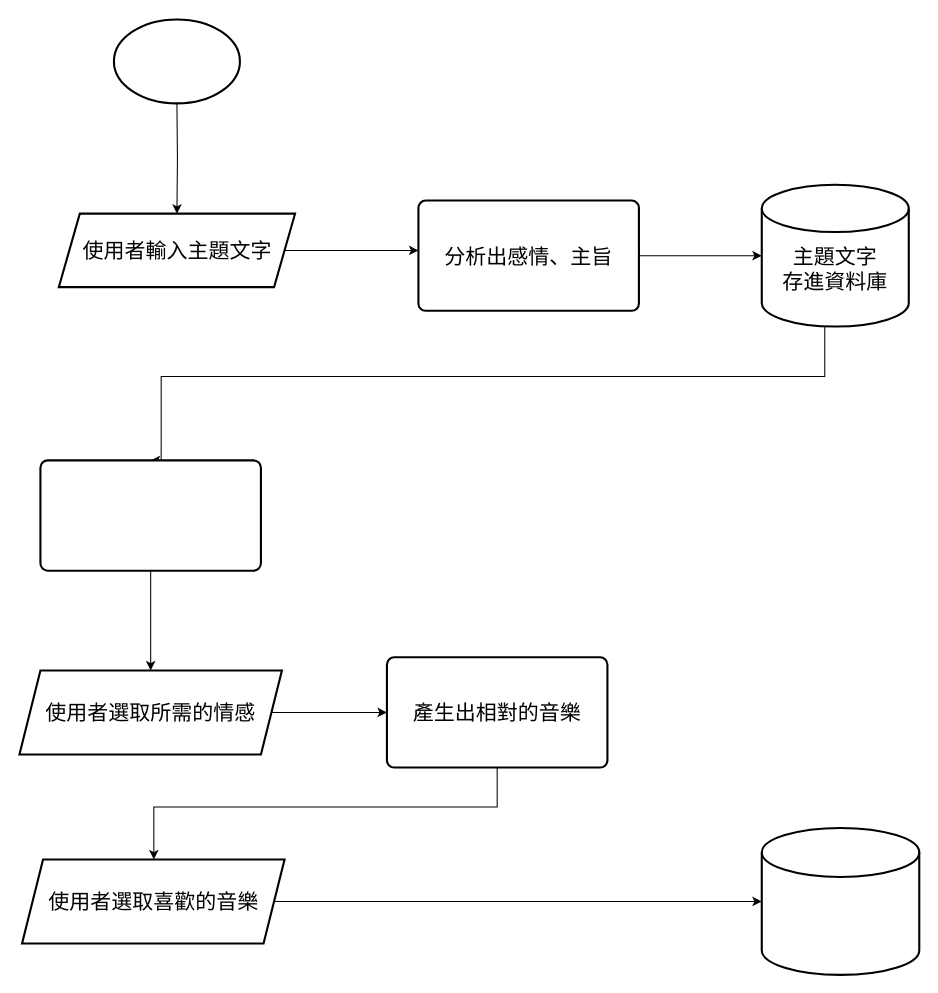
Some shapes in this 938 by 993 pixel diagram are drawn without their labels. Here are the shapes that lost their labels. From the top down, the box of each, then its label:
(112, 18, 240, 104): 開始
(39, 459, 261, 571): 網頁顯示感情、主旨
(760, 826, 920, 975): 音樂、情感 存進資料庫
